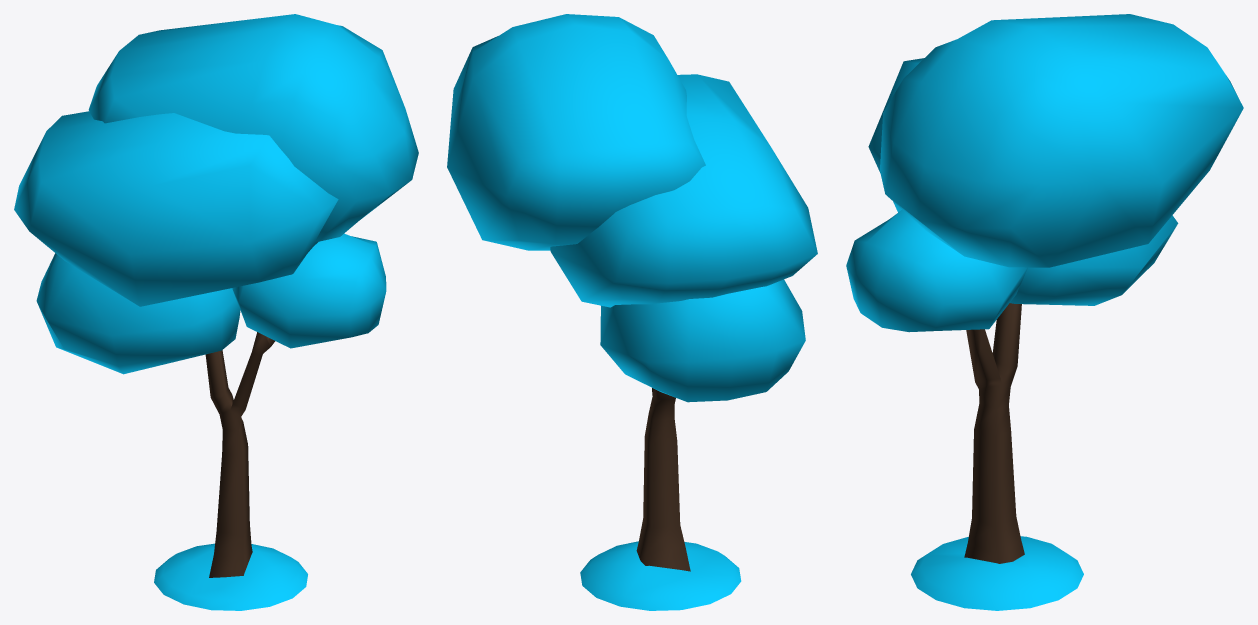
The model's file is blue tree 2.fbx.
3 renders of one model, left to right at view 1: azimuth 30°, elevation 25°; view 2: azimuth 150°, elevation 25°; view 3: azimuth 270°, elevation 25°, orthographic. The views are drawn at different scales.
Visible parts, largest first — view 1: Tree-01; view 2: Tree-01; view 3: Tree-01.
Part boxes in pixels (bbox=[...]): Tree-01: bbox=[14, 14, 418, 610]; Tree-01: bbox=[447, 14, 817, 610]; Tree-01: bbox=[846, 14, 1243, 610].
Bounding box in the file's own units: 362 × 509 × 315.
